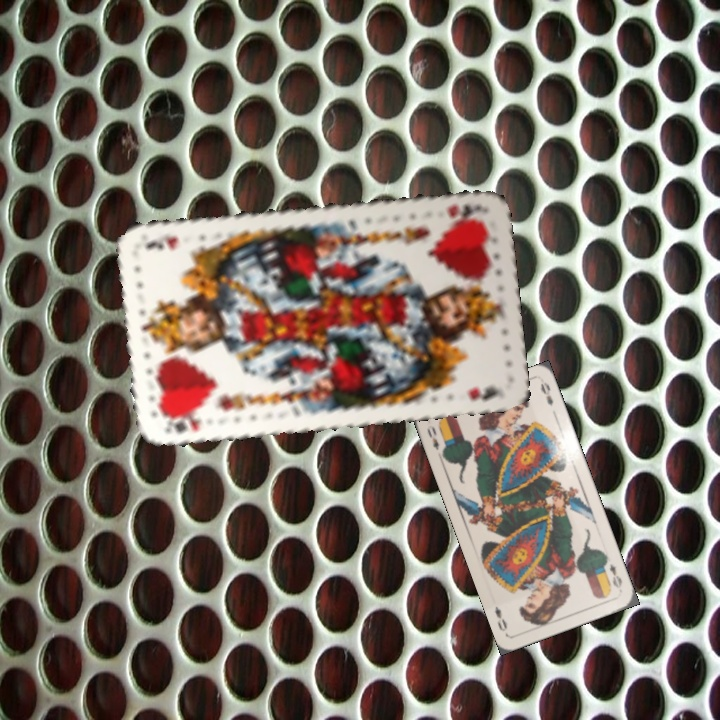EO: (605, 559, 625, 591), (423, 421, 442, 452)
HK: (158, 409, 204, 436), (443, 199, 484, 221)
